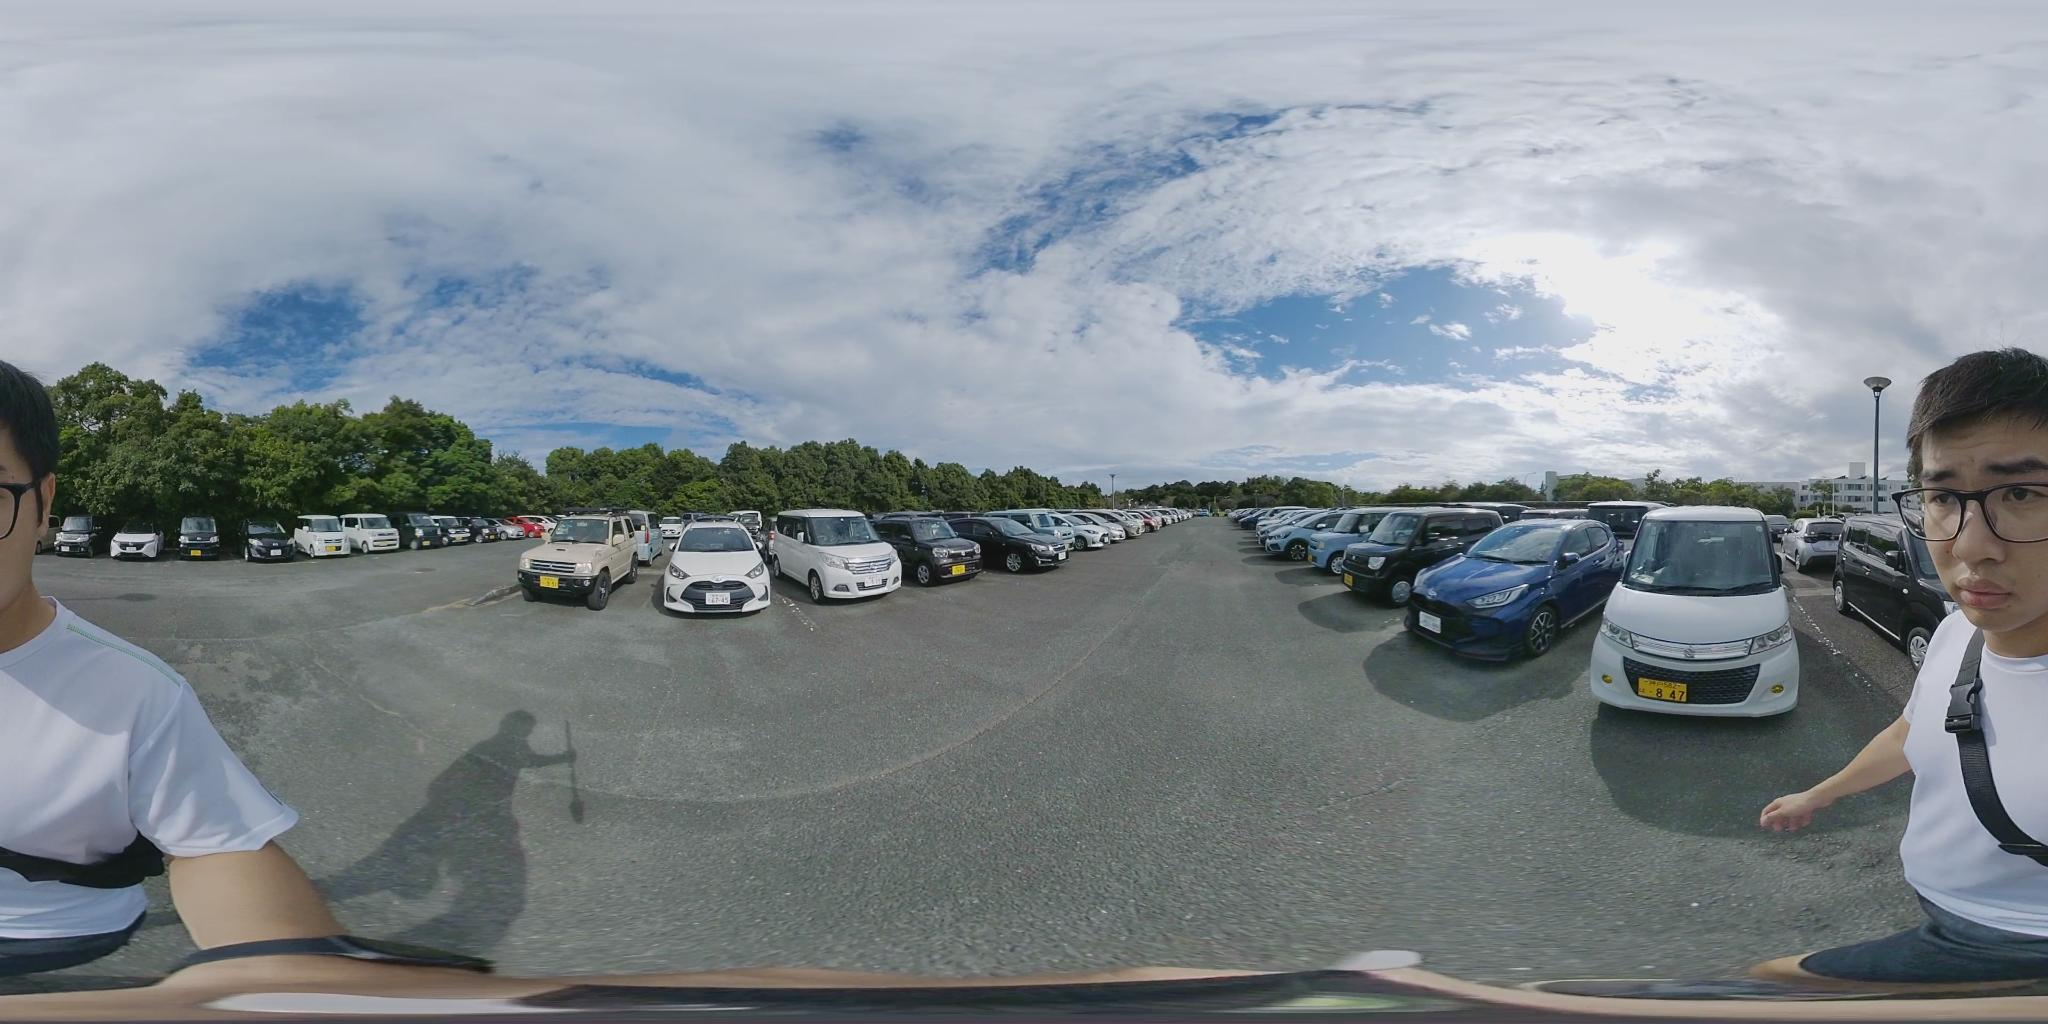car: (1595, 504, 1804, 716), (1398, 515, 1627, 664), (1320, 508, 1511, 598), (650, 517, 776, 619), (769, 511, 906, 603), (521, 517, 637, 609), (875, 513, 984, 585), (943, 515, 1075, 572), (1259, 509, 1368, 562), (1054, 515, 1128, 550), (1799, 519, 1849, 569), (296, 512, 350, 559), (44, 515, 104, 555), (240, 520, 294, 560), (342, 515, 397, 551), (179, 516, 222, 555), (422, 519, 482, 546), (115, 532, 165, 560)
